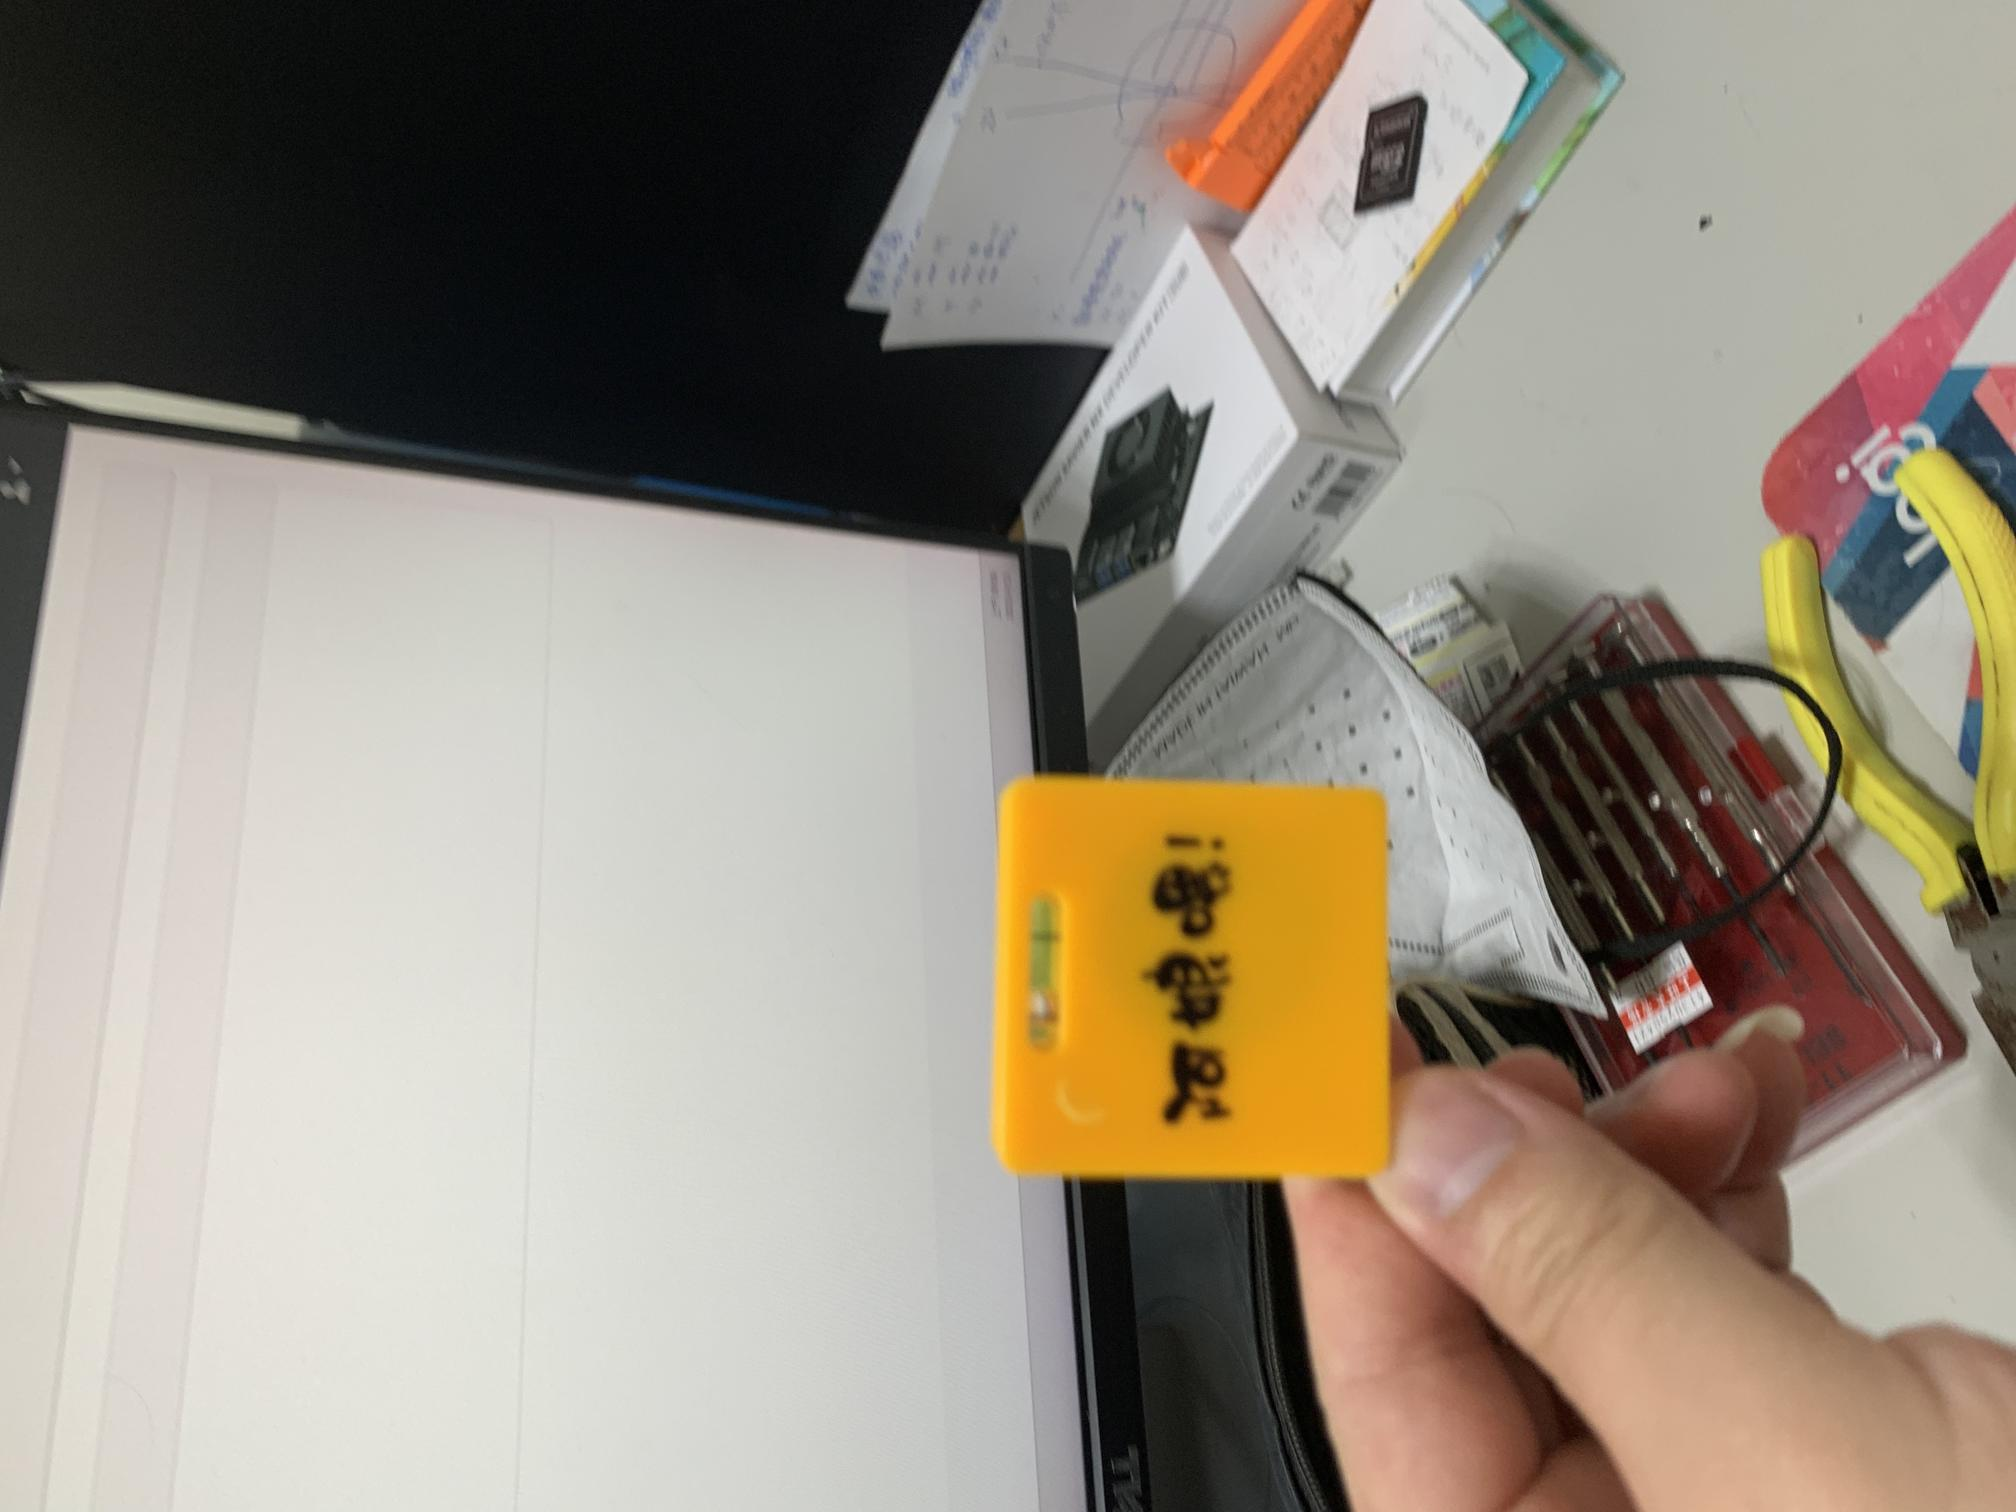Laio: (977, 774, 1402, 1181)
